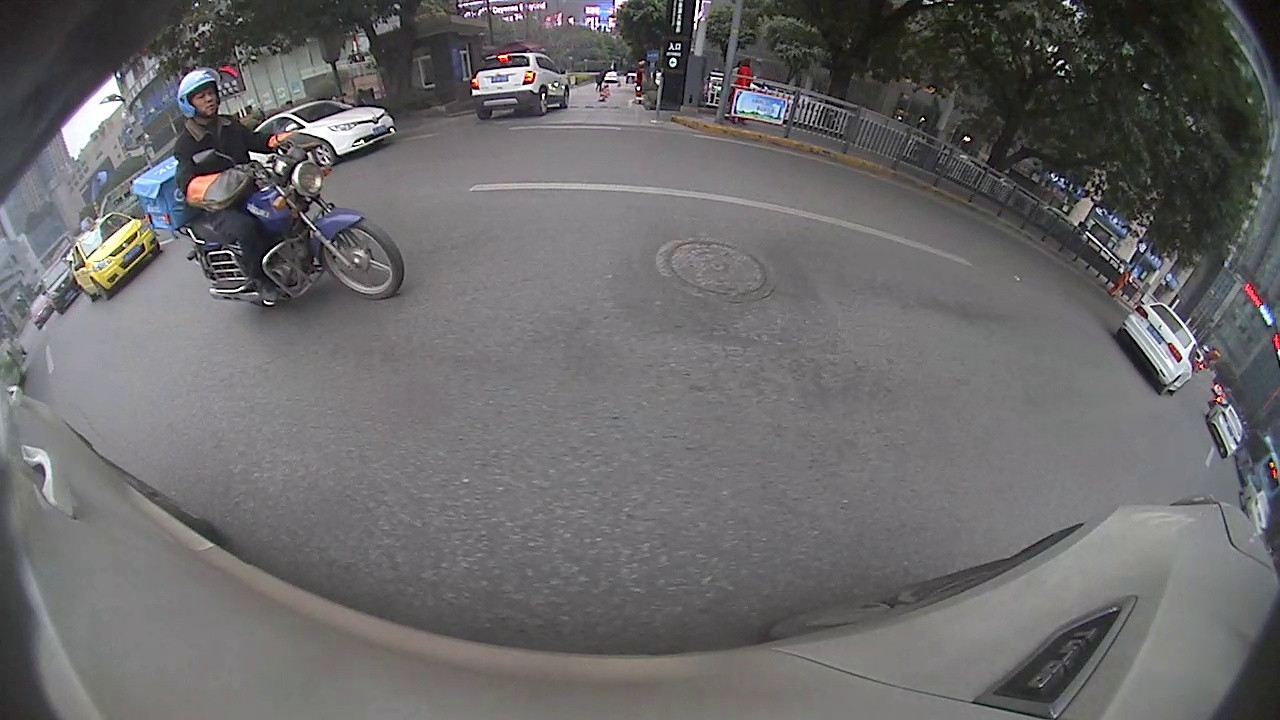car: (253, 99, 399, 168), (70, 211, 161, 303), (1117, 301, 1197, 397), (469, 50, 571, 121), (1203, 399, 1245, 459)
front: (320, 218, 401, 298), (311, 139, 337, 168)
rear: (538, 86, 551, 117)
rider: (130, 66, 407, 310)
